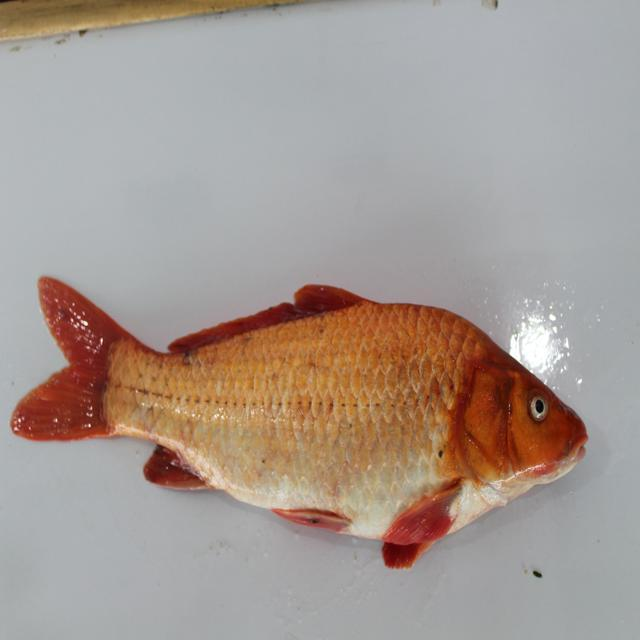Gold-Fish: (18, 238, 597, 584)
